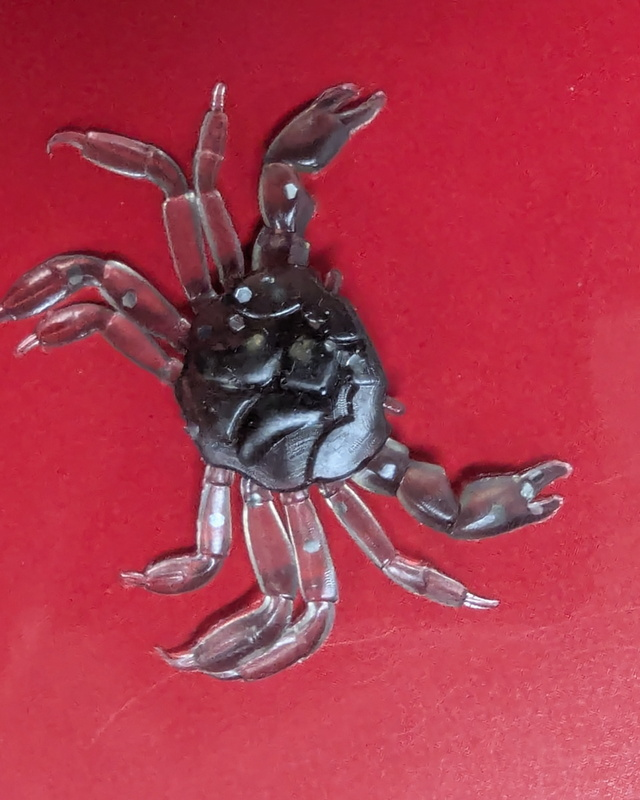crab1: (2, 80, 572, 678)
